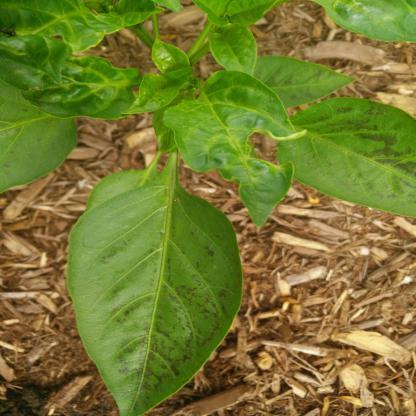Bell_pepper leaf spot: (67, 182, 245, 416), (155, 72, 306, 228), (280, 94, 416, 219), (1, 82, 80, 193), (244, 52, 358, 108)
